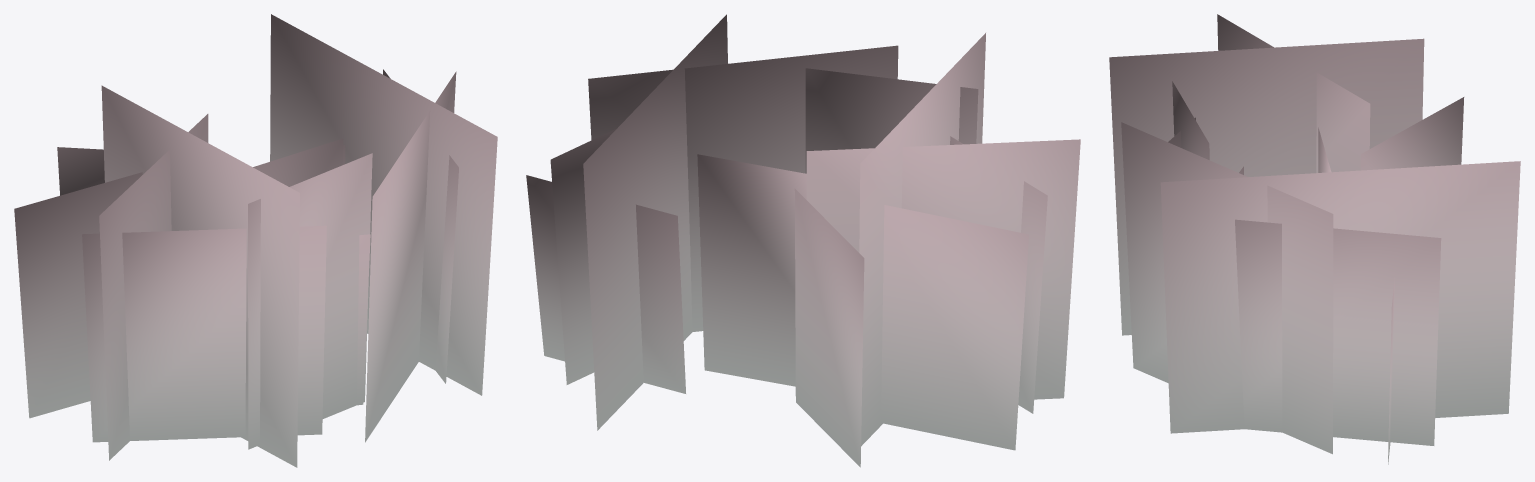
The picture shows the model from 3 angles, left to right: view 1: azimuth 30°, elevation 25°; view 2: azimuth 150°, elevation 25°; view 3: azimuth 270°, elevation 25°; orthographic projection. The views are drawn at different scales.
Visible parts, largest first — view 1: G:\FFXIV-MapTools\exports\e3ec\bg\ex2\02_est_e3\evt\e3ec\bgp; view 2: G:\FFXIV-MapTools\exports\e3ec\bg\ex2\02_est_e3\evt\e3ec\bgp; view 3: G:\FFXIV-MapTools\exports\e3ec\bg\ex2\02_est_e3\evt\e3ec\bgp.
Boxes of the visible parts, left/top/right/bottom form: G:\FFXIV-MapTools\exports\e3ec\bg\ex2\02_est_e3\evt\e3ec\bgp: left=14, top=14, right=497, bottom=467; G:\FFXIV-MapTools\exports\e3ec\bg\ex2\02_est_e3\evt\e3ec\bgp: left=526, top=14, right=1080, bottom=467; G:\FFXIV-MapTools\exports\e3ec\bg\ex2\02_est_e3\evt\e3ec\bgp: left=1109, top=14, right=1520, bottom=464.
Bounding box in the file's own units: 0.884 × 0.5113 × 0.6895.
